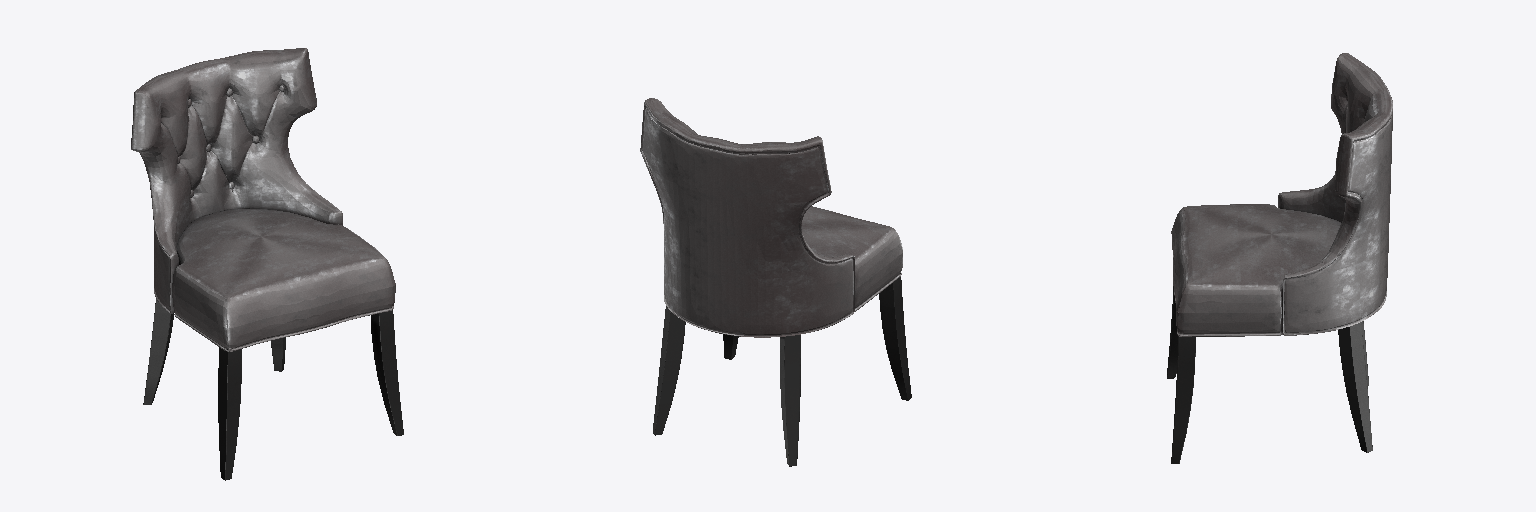
3 views of the same model, side by side, from view 1: azimuth 30°, elevation 25°; view 2: azimuth 150°, elevation 25°; view 3: azimuth 270°, elevation 25° (orthographic).
Visible parts, largest first — view 1: solid_001, solid_002; view 2: solid_001, solid_002; view 3: solid_001, solid_002.
Part boxes in pixels (x1,y1,x2,y2): solid_001: (131,48,395,351); solid_002: (143,299,403,480); solid_001: (640,98,902,337); solid_002: (653,273,911,466); solid_001: (1171,53,1392,336); solid_002: (1167,286,1372,463).
Bounding box in the file's own units: 0.5348 × 0.8798 × 0.5566.
1 materials, 1 textured.